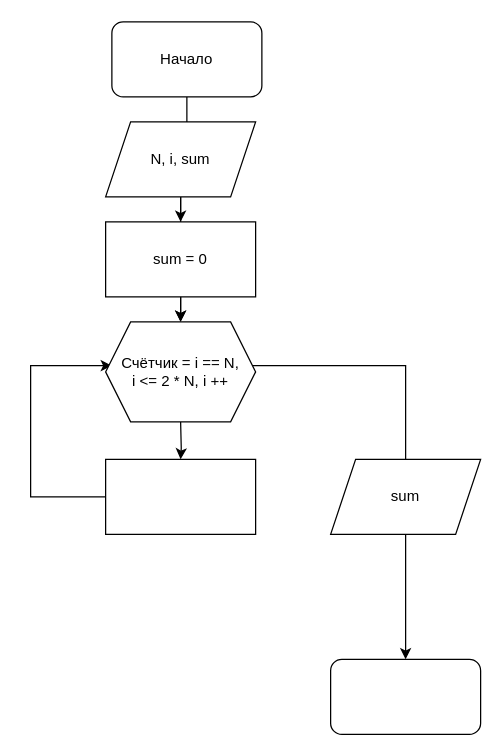
Image size: 503x756. Some labels were removed from this diagram. Here are the shapes that lost their labels. From the top down, the centre of each, then its label:
(180,496): sum = sum + i * i
(405,696): Конец
